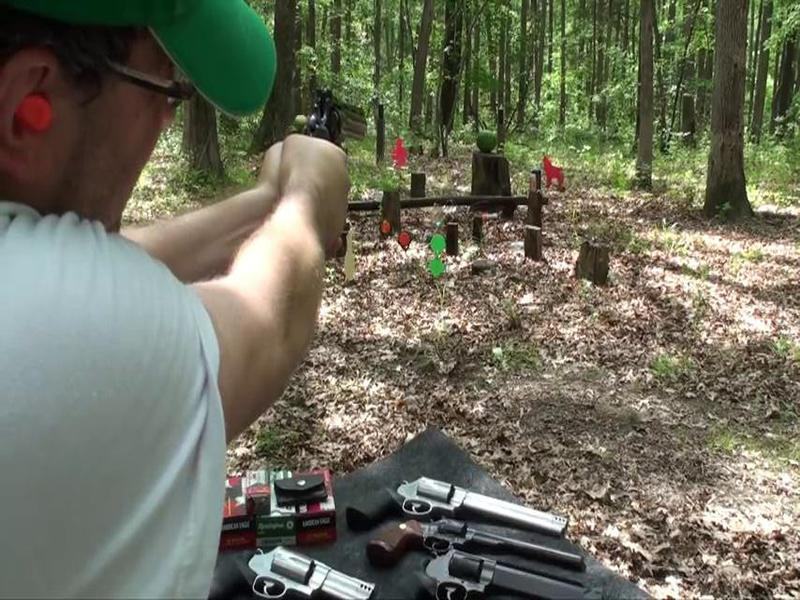Revolver: (293, 74, 384, 151)
